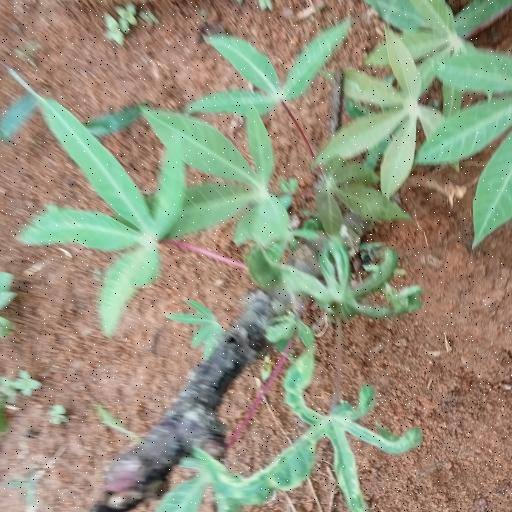Cassava_Mosaic: (223, 342, 416, 504), (318, 33, 474, 191)
